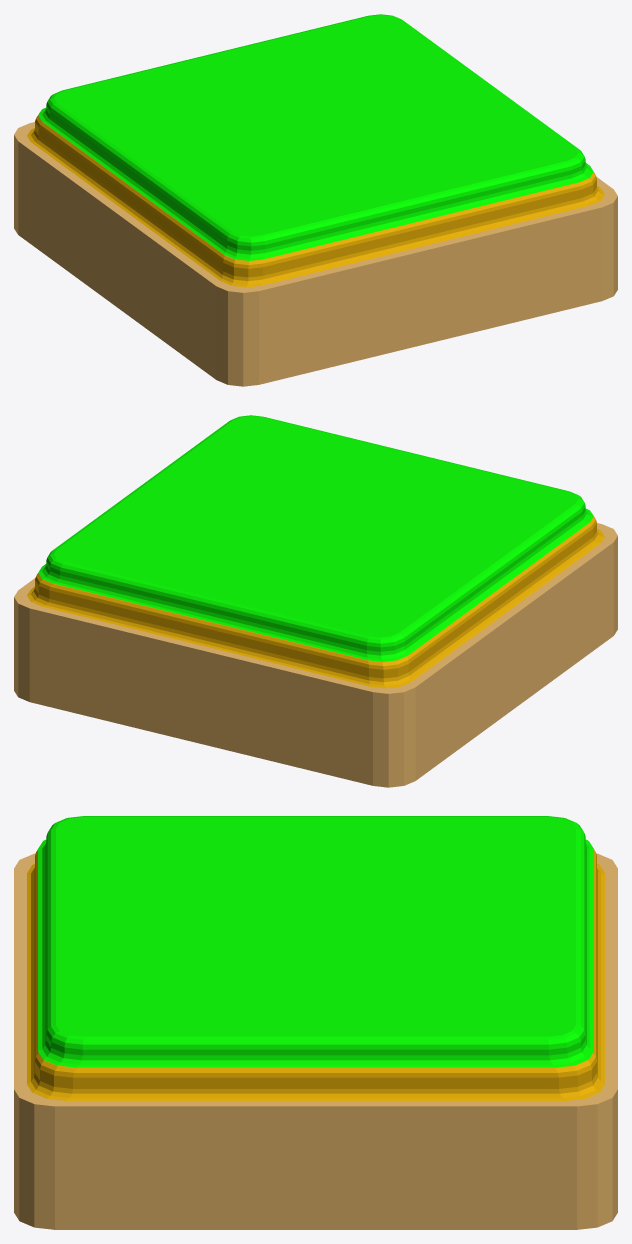
The picture shows the model from 3 angles, top to bottom: view 1: azimuth 30°, elevation 25°; view 2: azimuth 150°, elevation 25°; view 3: azimuth 270°, elevation 25°; orthographic projection. The views are drawn at different scales.
Visible parts, largest first — view 1: Circle.001, Circle, Circle.002; view 2: Circle.001, Circle, Circle.002; view 3: Circle.001, Circle, Circle.002.
Boxes of the visible parts, x1,y1,x2,y2 form: Circle.001: (38, 14, 593, 260); Circle: (14, 122, 617, 386); Circle.002: (27, 113, 604, 287); Circle.001: (38, 415, 593, 661); Circle: (14, 523, 617, 787); Circle.002: (27, 514, 604, 688); Circle.001: (38, 816, 593, 1067); Circle: (14, 853, 617, 1229); Circle.002: (27, 849, 604, 1100).
Bounding box in the file's own units: 600 × 192 × 600.
